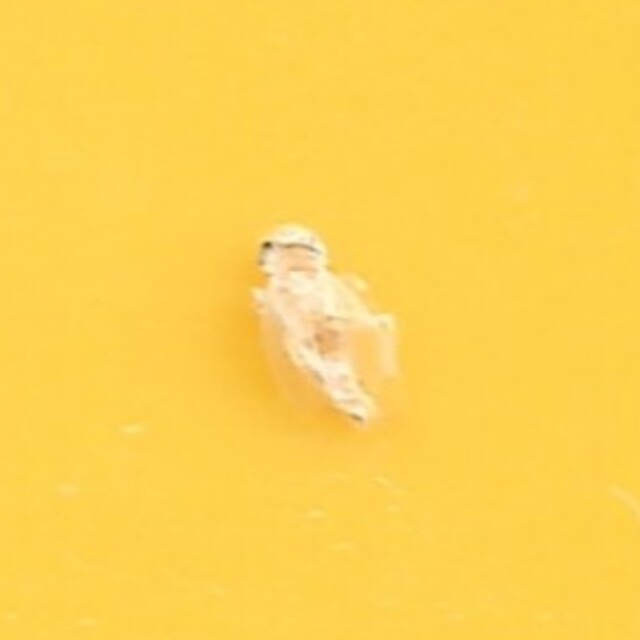Hemiptera: (250, 212, 390, 428)
